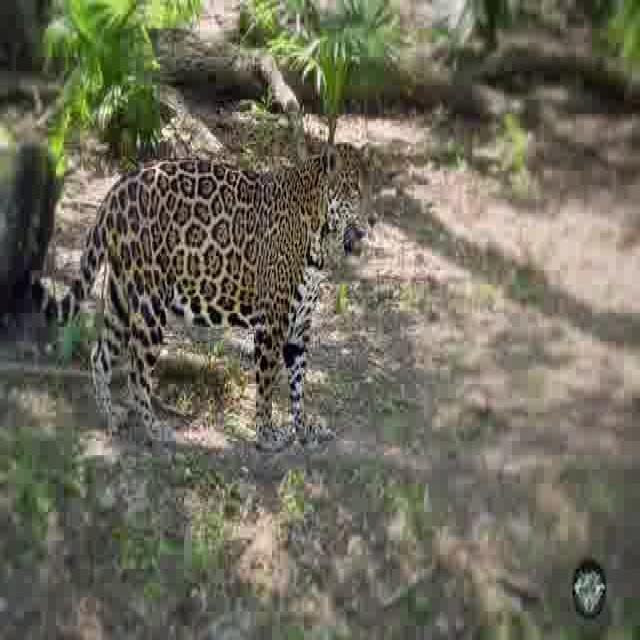Jaguar: (28, 133, 377, 457)
